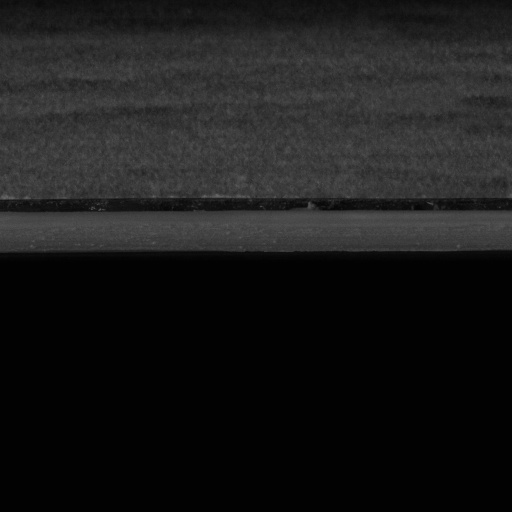kaijiao: (0, 192, 511, 254)
